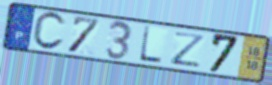3: (104, 19, 134, 62)
7: (208, 32, 240, 75), (68, 15, 101, 55)
C: (30, 11, 68, 52)
L: (137, 24, 165, 66)
Z: (170, 31, 207, 69)
